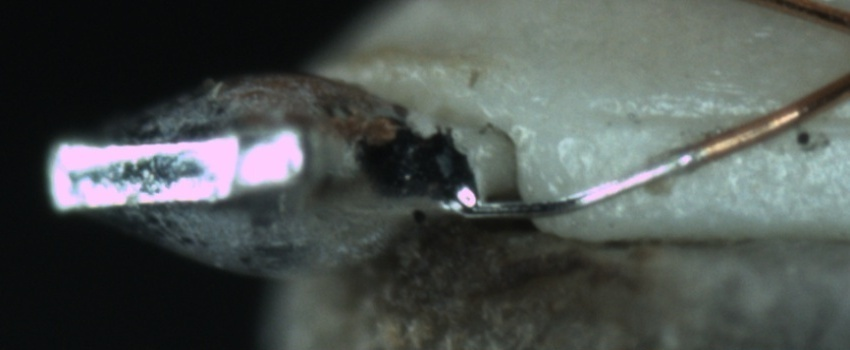DL: (570, 85, 842, 153)
TS: (458, 153, 698, 225)
